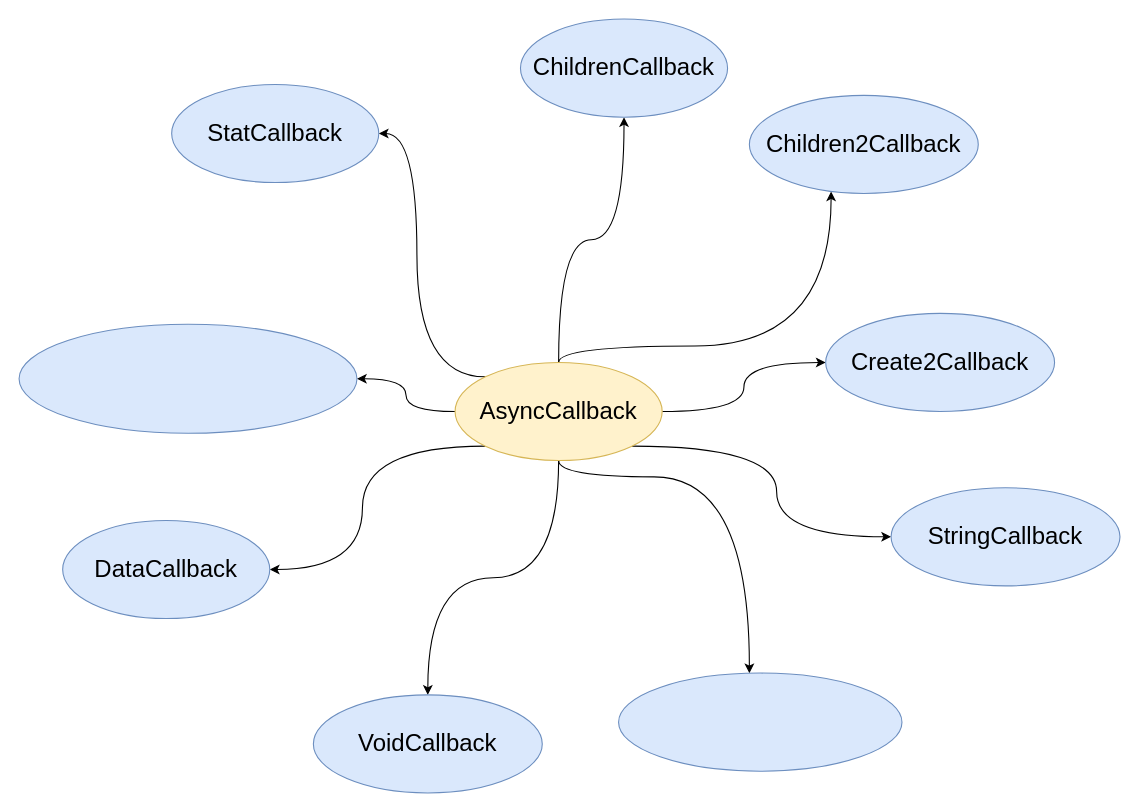
The diagram is 1139 pixels wide and 812 high, and some of its shapes have lost their labels. Each missing label, with the centre of its shape:
"AllChildrenNumberCallback" belongs at pixel 187 378.
"EphemeralsCallback" belongs at pixel 759 721.
